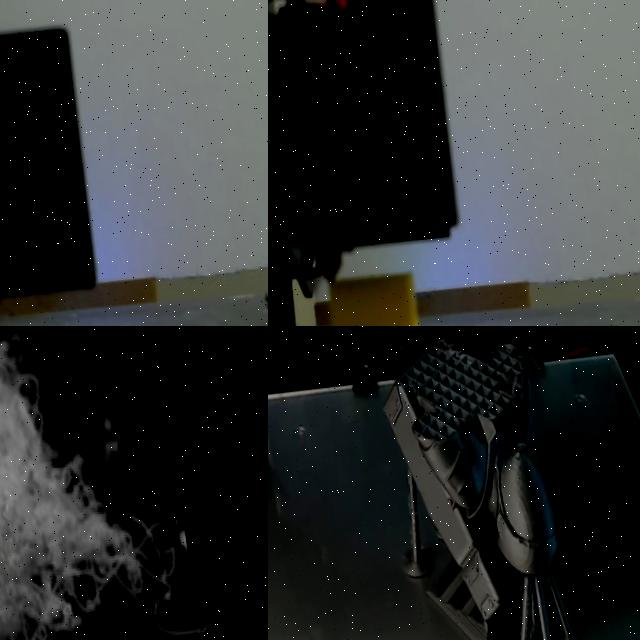spaghetti: (0, 326, 211, 640)
